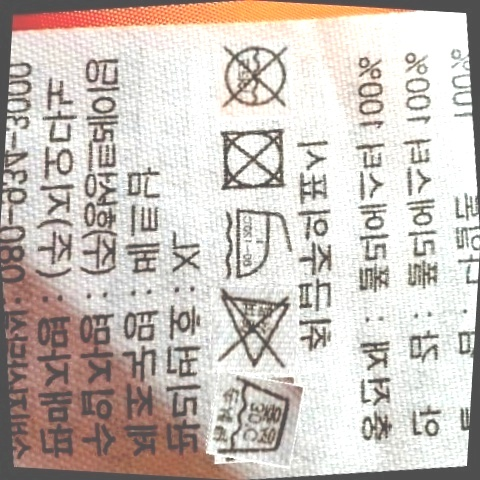DN_dry_clean: (214, 40, 295, 113)
DN_tumble_dry: (213, 122, 291, 195)
hand_wash: (205, 373, 297, 465)
iron_low: (217, 200, 292, 286)
non_chlorine_bleach: (209, 287, 289, 372)
